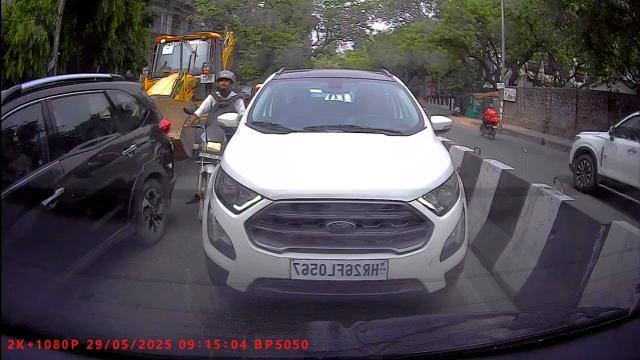motorcycle_with_helmet: (188, 67, 248, 217), (479, 104, 499, 140)
